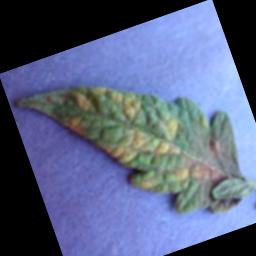Leaf_Mold: (124, 133, 246, 239), (95, 111, 182, 178), (109, 83, 148, 127), (69, 77, 113, 115), (58, 112, 88, 144), (162, 114, 185, 141)
